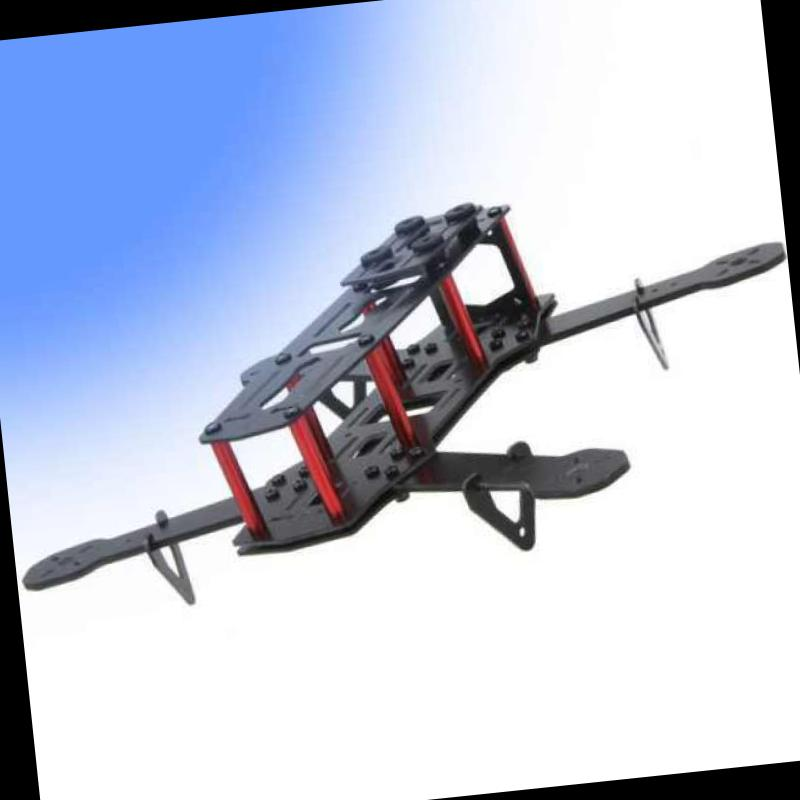drone: (13, 175, 800, 565)
